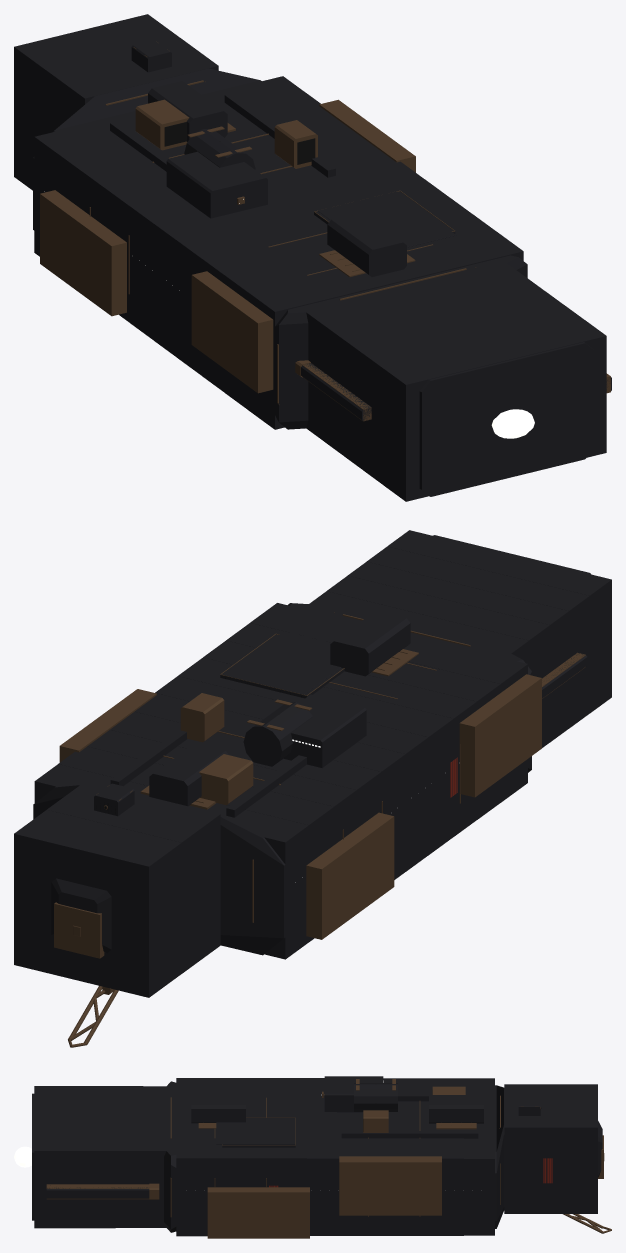
The picture shows the model from 3 angles, top to bottom: view 1: azimuth 30°, elevation 25°; view 2: azimuth 150°, elevation 25°; view 3: azimuth 270°, elevation 25°; orthographic projection. The views are drawn at different scales.
Visible parts, largest first — view 1: RIMWARD_HULL, RIMWARD_ENGINE_GLOW; view 2: RIMWARD_HULL; view 3: RIMWARD_HULL, RIMWARD_ENGINE_GLOW.
Part boxes in pixels (left/top/right/bottom): RIMWARD_HULL: left=14, top=14, right=611, bottom=501; RIMWARD_ENGINE_GLOW: left=491, top=409, right=534, bottom=438; RIMWARD_HULL: left=14, top=530, right=611, bottom=1047; RIMWARD_HULL: left=32, top=1076, right=611, bottom=1238; RIMWARD_ENGINE_GLOW: left=14, top=1146, right=31, bottom=1167.
Size of the model in its own units: 29.2 by 20.78 by 81.74.
